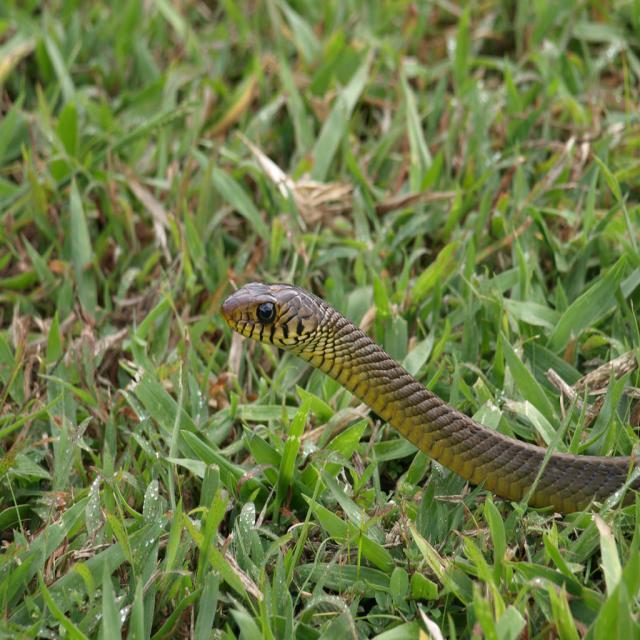Snake: (220, 278, 639, 518)
